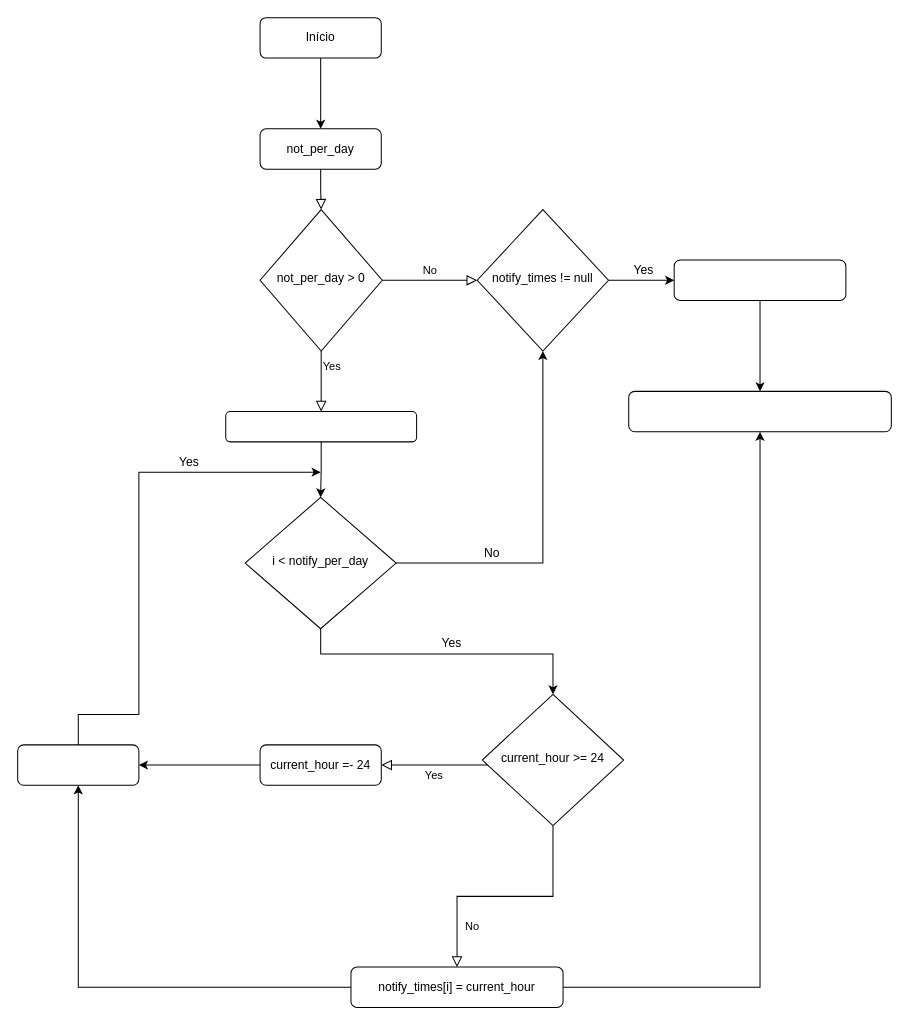
This 909x1025 diagram has some shape labels left out. The shapes that lost their labels are listed below. From the top down, each one's box as (x1, y1, x2, y2) in pixels, then its label:
(673, 259, 846, 300): Arrays.fill(notify_times,null)
(225, 411, 417, 442): div = 24/(1+notify_per_day)
(628, 390, 891, 432): Register_cellphone_memory(notify_times)
(17, 744, 139, 785): i = i + 1
